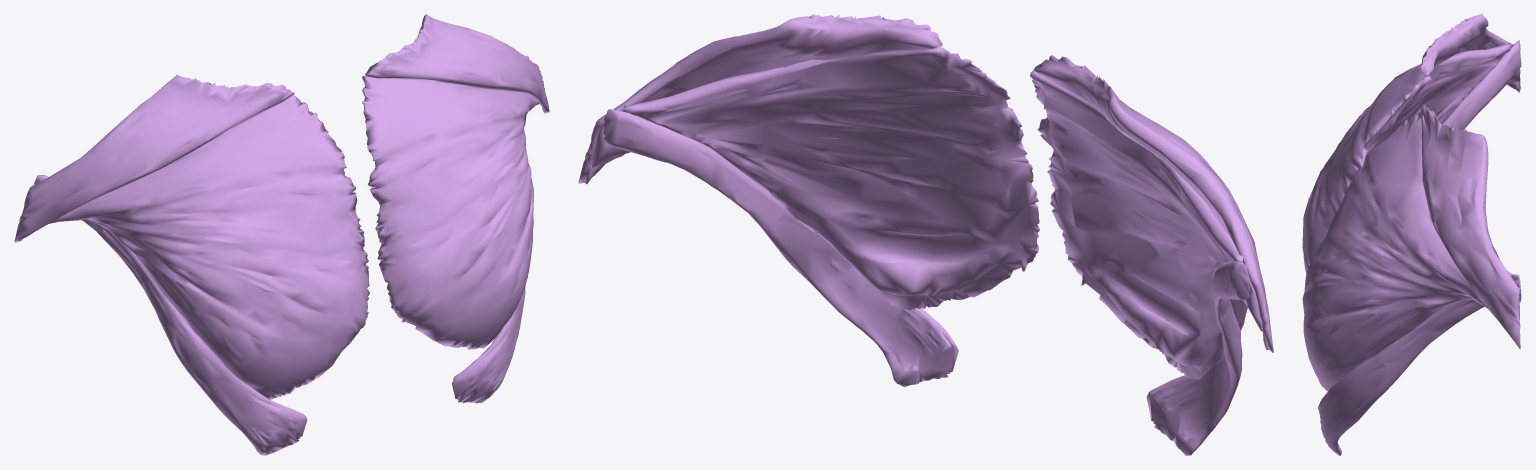
Rendered from pectoralis_major_reference.glb.
The picture shows the model from 3 angles, left to right: view 1: azimuth 30°, elevation 25°; view 2: azimuth 150°, elevation 25°; view 3: azimuth 270°, elevation 25°; orthographic projection. The views are drawn at different scales.
Visible parts, largest first — view 1: Sternocostal head of pectoralis major muscle.r, Sternocostal head of pectoralis major muscle.l, Clavicular head of pectoralis major muscle.r, (Abdominal part of pectoralis major muscle).r, Clavicular head of pectoralis major muscle.l, (Abdominal part of pectoralis major muscle).l; view 2: Sternocostal head of pectoralis major muscle.l, Sternocostal head of pectoralis major muscle.r, (Abdominal part of pectoralis major muscle).l, Clavicular head of pectoralis major muscle.l, Clavicular head of pectoralis major muscle.r, (Abdominal part of pectoralis major muscle).r; view 3: Sternocostal head of pectoralis major muscle.l, Clavicular head of pectoralis major muscle.l, Sternocostal head of pectoralis major muscle.r, (Abdominal part of pectoralis major muscle).l, Clavicular head of pectoralis major muscle.r, (Abdominal part of pectoralis major muscle).r.
Boxes of the visible parts, <box> form: Sternocostal head of pectoralis major muscle.r: <box>48,94,369,399</box>; Sternocostal head of pectoralis major muscle.l: <box>362,75,539,349</box>; Clavicular head of pectoralis major muscle.r: <box>14,75,294,242</box>; (Abdominal part of pectoralis major muscle).r: <box>34,175,307,455</box>; Clavicular head of pectoralis major muscle.l: <box>365,14,549,113</box>; (Abdominal part of pectoralis major muscle).l: <box>452,56,528,403</box>; Sternocostal head of pectoralis major muscle.l: <box>591,47,1039,310</box>; Sternocostal head of pectoralis major muscle.r: <box>1030,70,1262,379</box>; (Abdominal part of pectoralis major muscle).l: <box>603,109,958,387</box>; Clavicular head of pectoralis major muscle.l: <box>578,14,942,184</box>; Clavicular head of pectoralis major muscle.r: <box>1034,55,1273,352</box>; (Abdominal part of pectoralis major muscle).r: <box>1146,261,1250,455</box>; Sternocostal head of pectoralis major muscle.l: <box>1302,115,1520,391</box>; Clavicular head of pectoralis major muscle.l: <box>1421,104,1520,348</box>; Sternocostal head of pectoralis major muscle.r: <box>1302,42,1519,272</box>; (Abdominal part of pectoralis major muscle).l: <box>1318,274,1521,455</box>; Clavicular head of pectoralis major muscle.r: <box>1421,14,1520,92</box>; (Abdominal part of pectoralis major muscle).r: <box>1442,40,1521,130</box>.
Size of the model in its own units: 0.4003 by 0.2376 by 0.1431.
